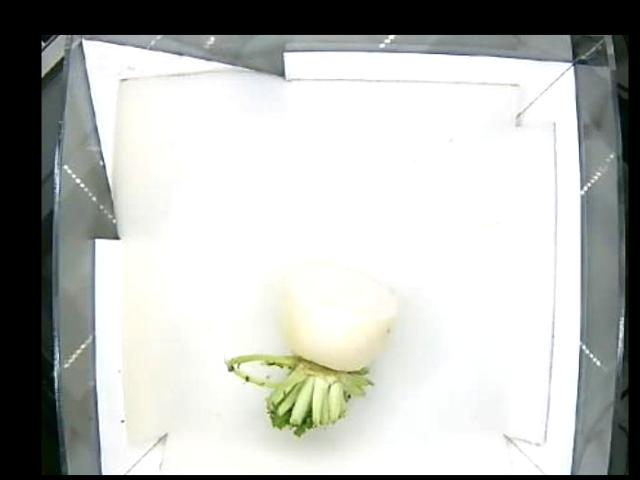Mooli: (233, 259, 396, 434)
